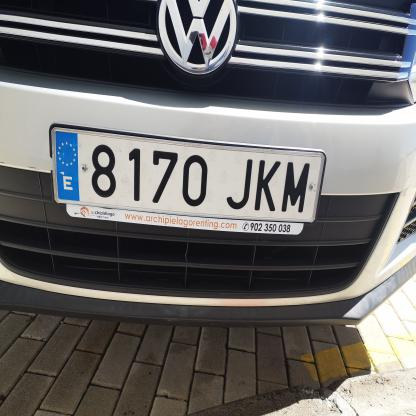patente: (54, 128, 327, 221)
